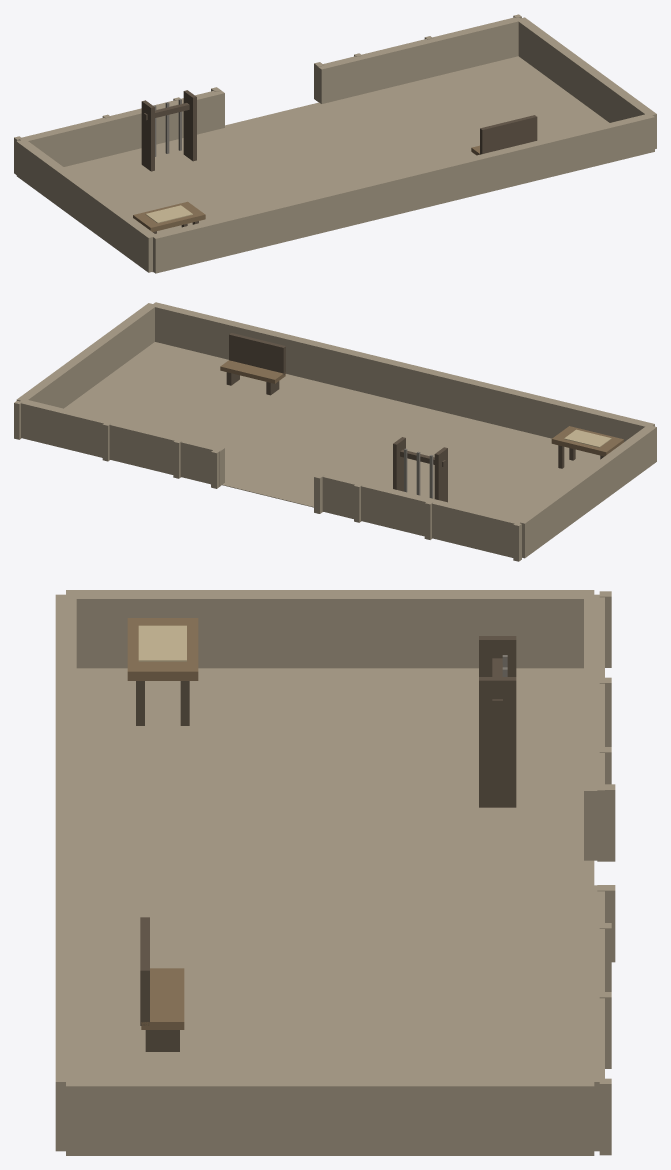
The model's file is TownEx_Watchtower_Structure.fbx.
3 renders of one model, top to bottom at view 1: azimuth 30°, elevation 25°; view 2: azimuth 150°, elevation 25°; view 3: azimuth 270°, elevation 25°, orthographic. The views are drawn at different scales.
Parts seen in each view (by area): view 1: TownEx_Watchtower_Structure; view 2: TownEx_Watchtower_Structure; view 3: TownEx_Watchtower_Structure.
Part boxes in pixels (x1,y1,x2,y2): TownEx_Watchtower_Structure: (14,14,656,273); TownEx_Watchtower_Structure: (14,302,656,561); TownEx_Watchtower_Structure: (55,590,615,1155).
Size of the model in its own units: 15.78 by 1.9 by 7.52.
